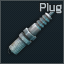Spark plug: (0, 0, 64, 64)
